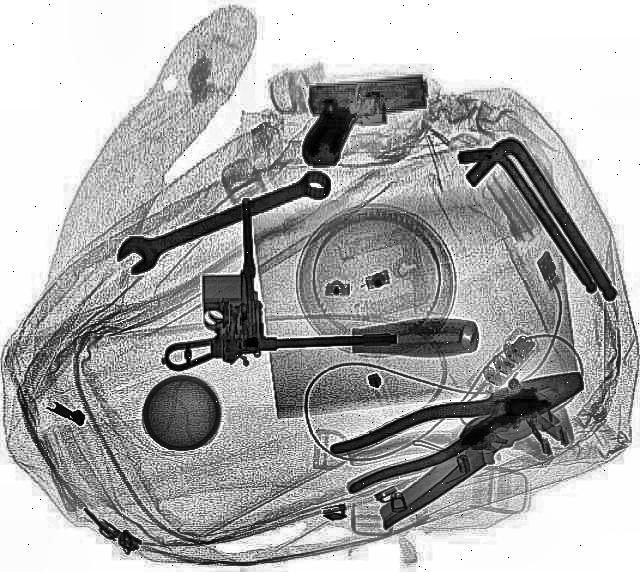Gun: (158, 196, 262, 370), (299, 71, 429, 167)
Pliers: (323, 353, 597, 495)
Wrench: (106, 162, 338, 278)
